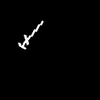double_crochet: (19, 21, 42, 48)
